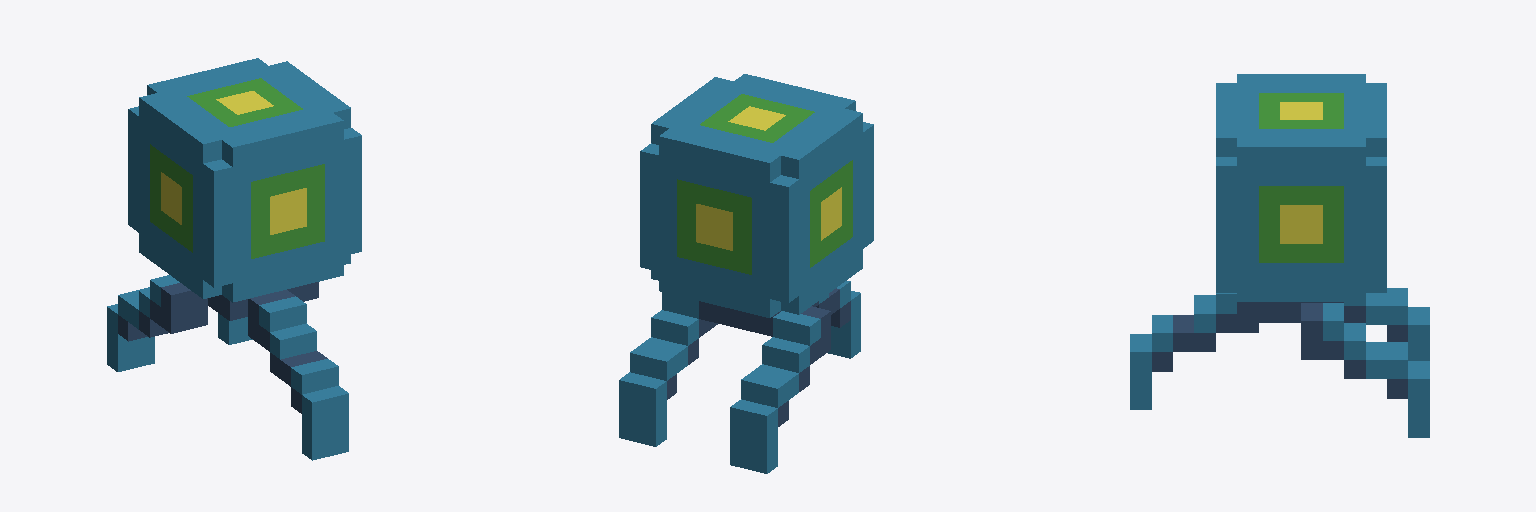
3 views of the same model, side by side, from view 1: azimuth 30°, elevation 25°; view 2: azimuth 150°, elevation 25°; view 3: azimuth 270°, elevation 25° (orthographic).
Bounding box in the file's own units: 8 × 15 × 14.
Materials: 1 (1 with a texture image).